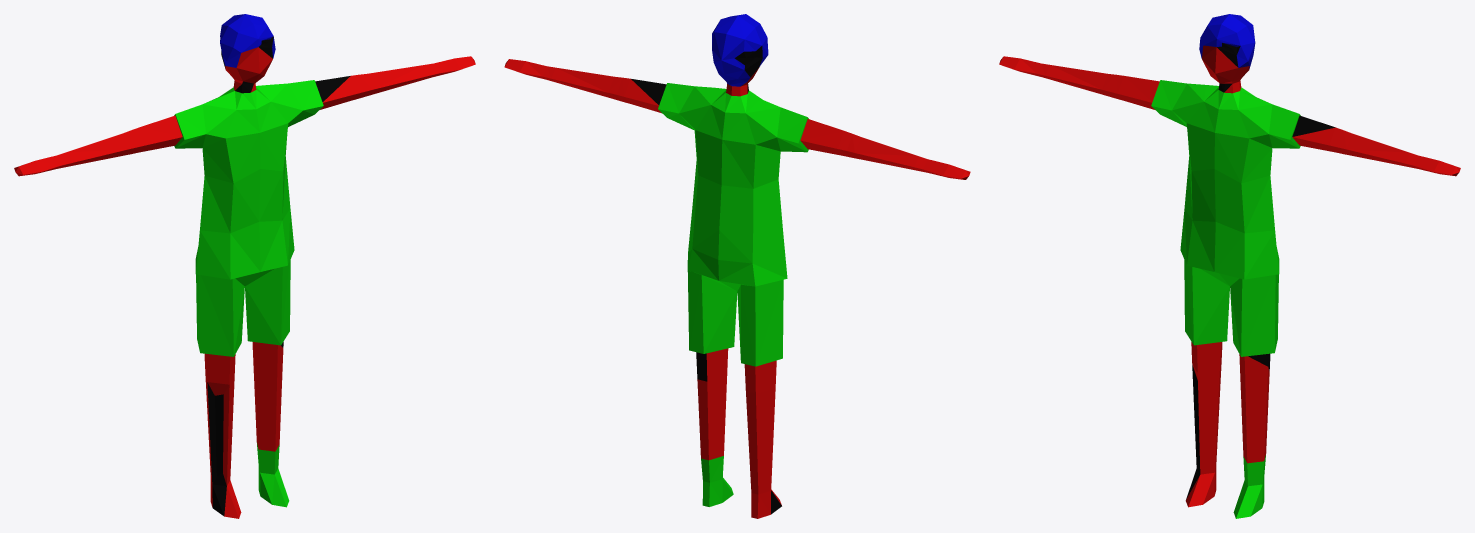
Rendered from Zombies_Male_Teen_NoArmature.fbx.
The picture shows the model from 3 angles, left to right: view 1: azimuth 30°, elevation 25°; view 2: azimuth 150°, elevation 25°; view 3: azimuth 330°, elevation 25°; orthographic projection.
Parts seen in each view (by area): view 1: Male_Teen; view 2: Male_Teen; view 3: Male_Teen.
Part boxes in pixels (x1=…): Male_Teen: x1=14, y1=14, x2=475, y2=518; Male_Teen: x1=504, y1=14, x2=970, y2=518; Male_Teen: x1=999, y1=14, x2=1460, y2=518.
Bounding box in the file's own units: 162 × 164 × 22.51.
